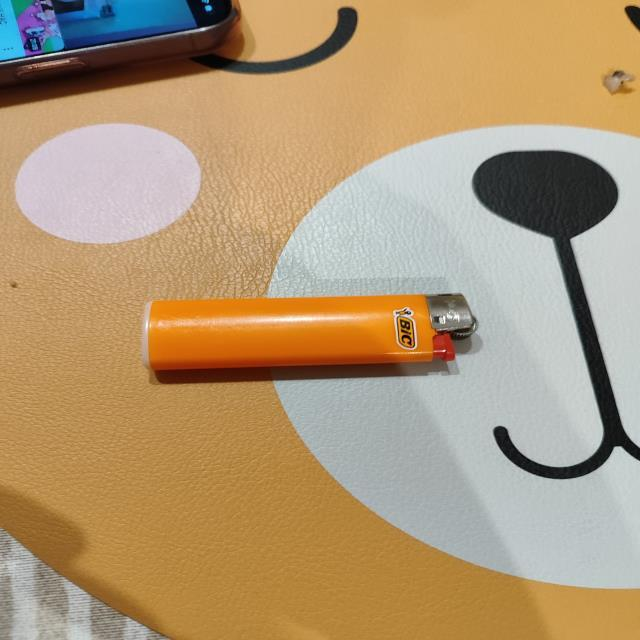lighter: (144, 293, 476, 372)
